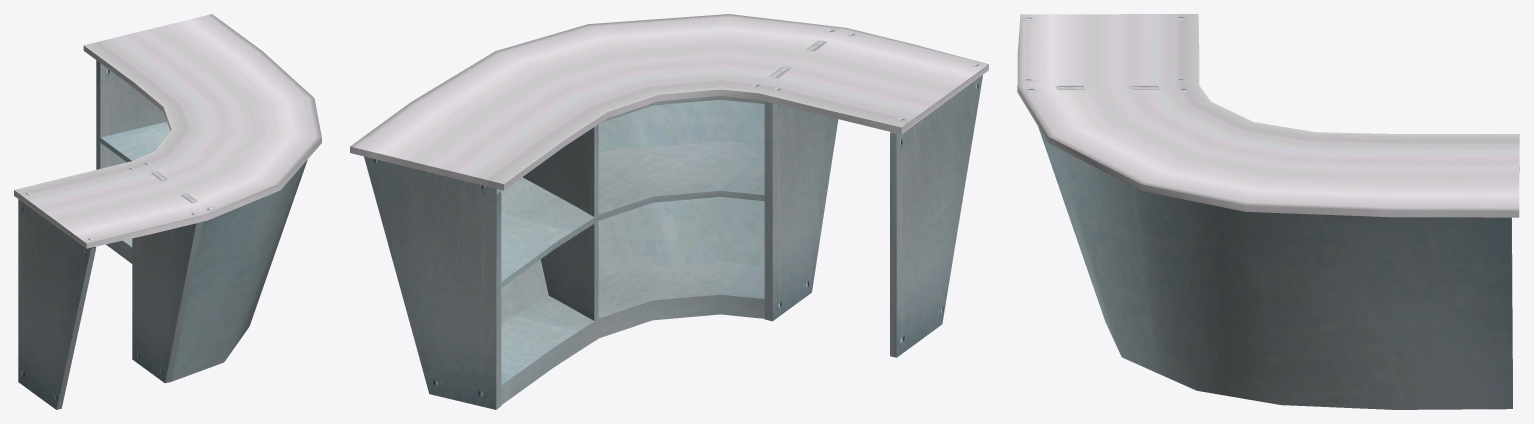
Rendered from frn_bar_piece_curve_s1_l0.fbx.
3 views of the same model, side by side, from view 1: azimuth 30°, elevation 25°; view 2: azimuth 150°, elevation 25°; view 3: azimuth 270°, elevation 25° (orthographic). The views are drawn at different scales.
Parts seen in each view (by area): view 1: mesh_node; view 2: mesh_node; view 3: mesh_node.
Part boxes in pixels (x1=…): mesh_node: x1=14, y1=14, x2=321, y2=409; mesh_node: x1=350, y1=14, x2=988, y2=409; mesh_node: x1=1017, y1=14, x2=1519, y2=409.
Size of the model in its own units: 2.05 by 1.15 by 2.21.
